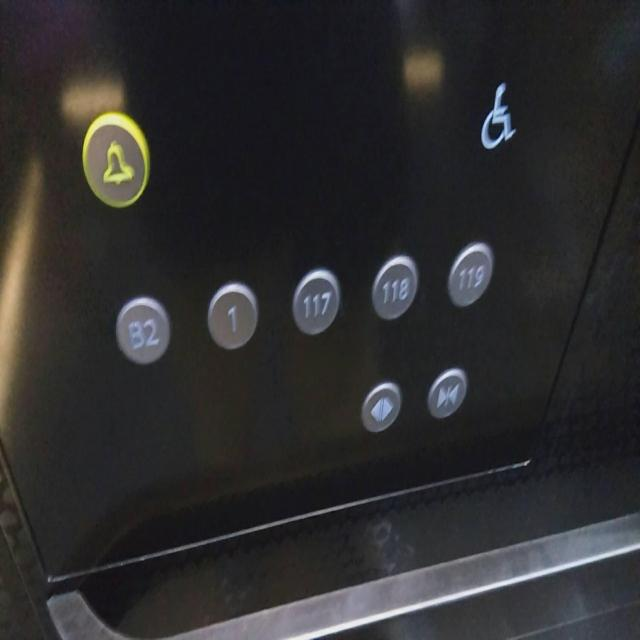1: (206, 276, 260, 358)
117: (290, 264, 343, 342)
118: (369, 248, 420, 326)
119: (446, 236, 495, 314)
B2: (112, 289, 172, 370)
CH: (474, 55, 525, 158)
alarm: (80, 105, 151, 215)
close: (424, 364, 470, 422)
open: (359, 374, 403, 438)
